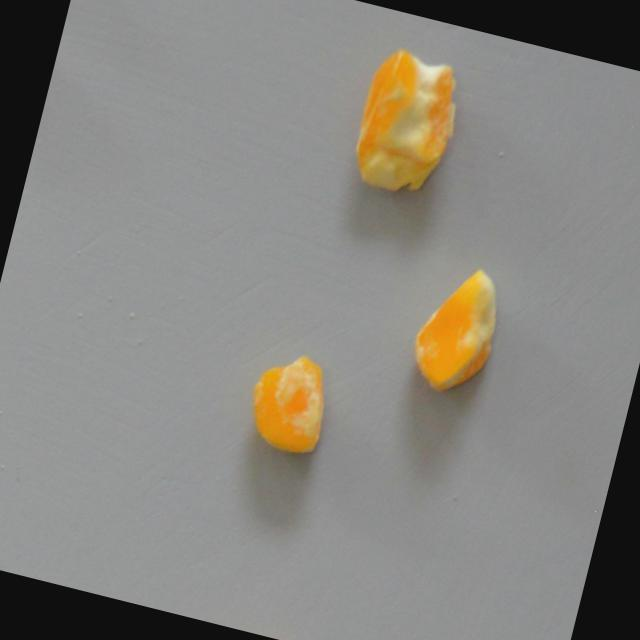pelicula: (344, 45, 466, 203), (404, 257, 509, 400), (240, 345, 337, 459)
